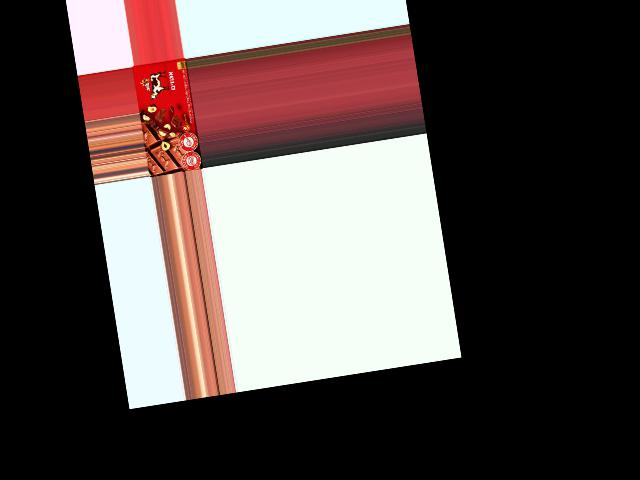chocolate: (132, 57, 201, 176)
